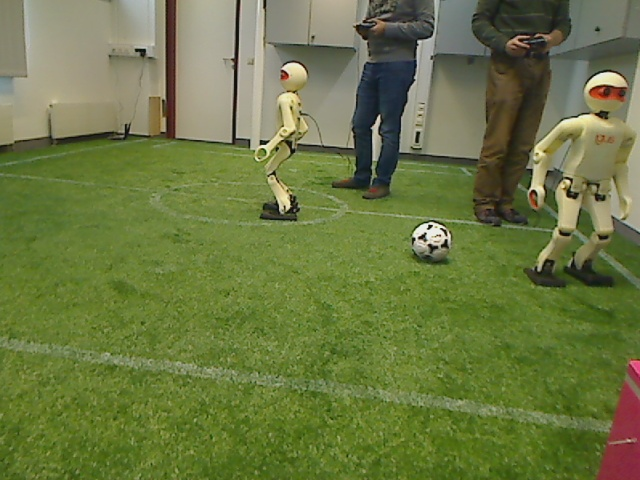ball: (406, 219, 456, 267)
robot: (537, 67, 635, 288), (254, 54, 311, 223)
